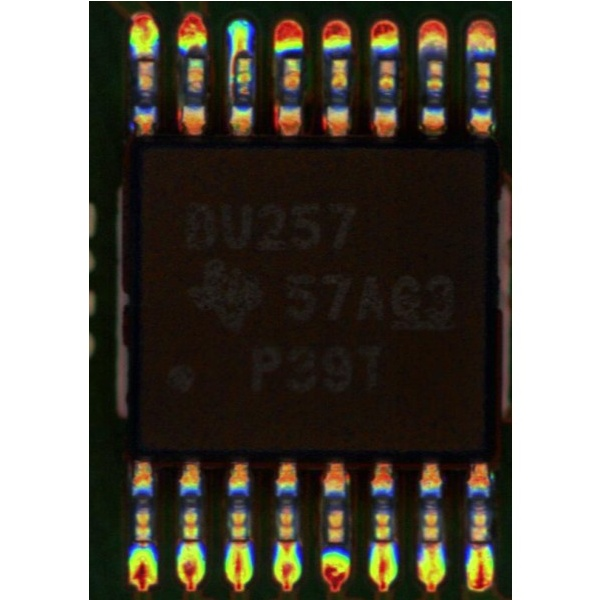Bad_podu: (423, 524, 435, 558), (376, 527, 387, 558), (474, 532, 485, 560), (280, 527, 291, 555), (232, 527, 244, 552)
Bad_qiaojiao: (228, 57, 235, 103)
